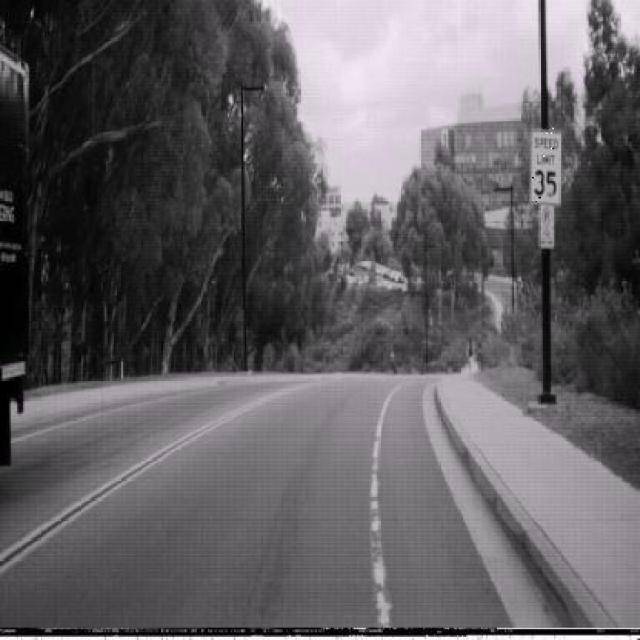speedLimit35: (529, 128, 562, 206)
